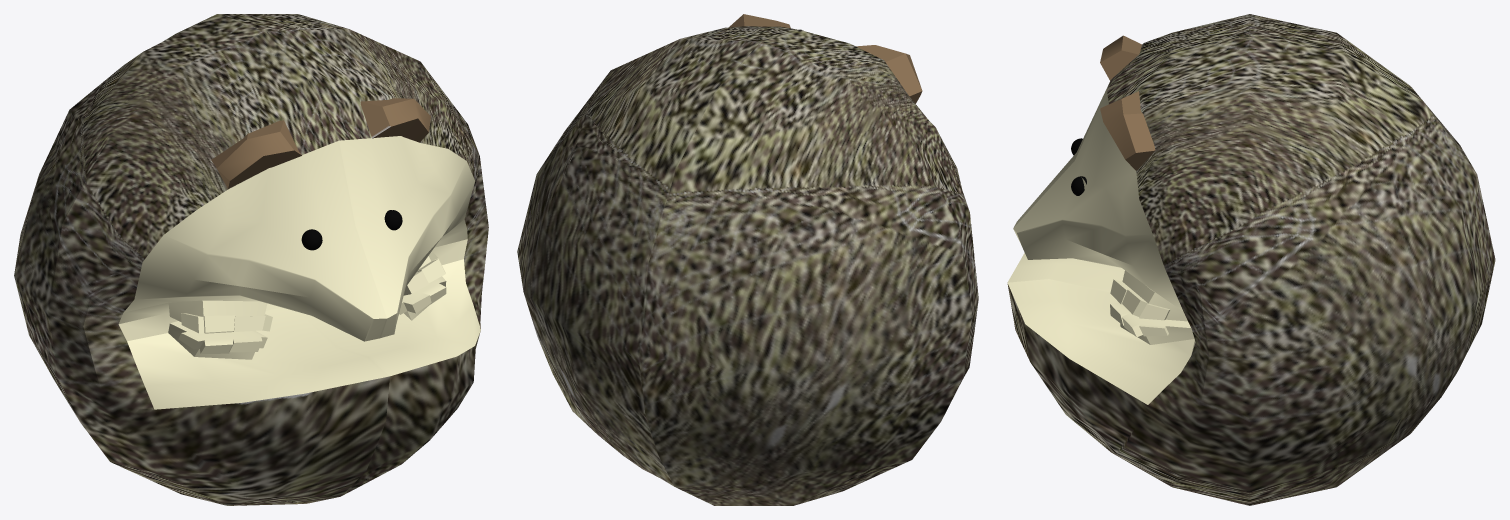
The model's file is mouse_1.fbx.
3 views of the same model, side by side, from view 1: azimuth 30°, elevation 25°; view 2: azimuth 150°, elevation 25°; view 3: azimuth 270°, elevation 25° (orthographic). The views are drawn at different scales.
Parts seen in each view (by area): view 1: polySurface2; view 2: polySurface2; view 3: polySurface2.
Part boxes in pixels (box(x1,y1,x2,y2)): polySurface2: box(14, 14, 488, 505); polySurface2: box(517, 14, 978, 505); polySurface2: box(1007, 14, 1495, 505).
Size of the model in its own units: 790 by 800 by 793.
1 material, 1 textured.
